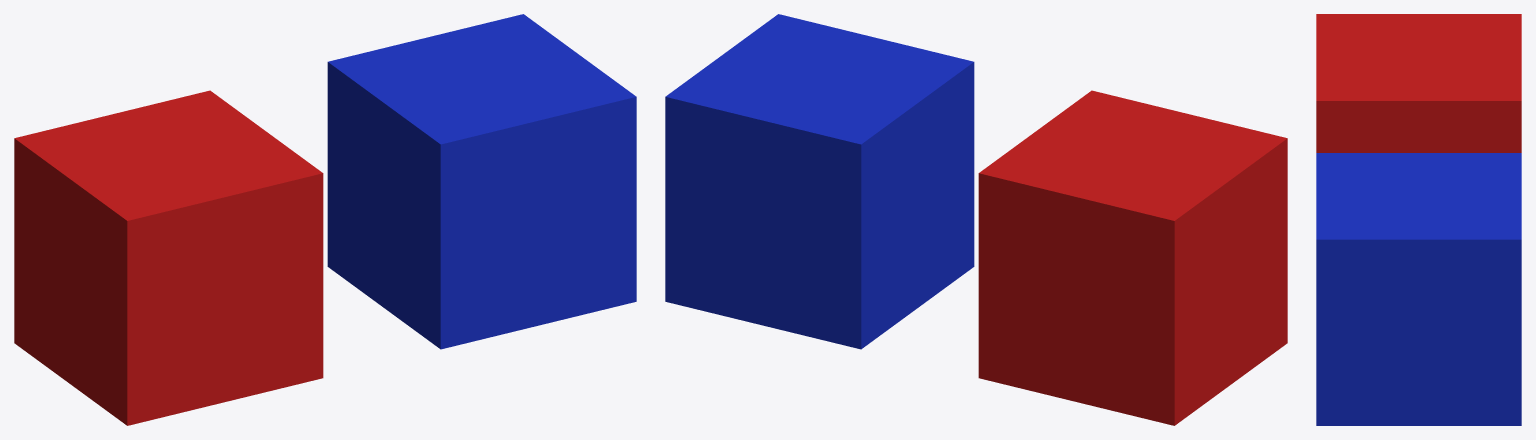
File: two-material.obj
3 views of the same model, side by side, from view 1: azimuth 30°, elevation 25°; view 2: azimuth 150°, elevation 25°; view 3: azimuth 270°, elevation 25° (orthographic). The views are drawn at different scales.
Visible parts, largest first — view 1: part_red_plastic, part_blue_plastic; view 2: part_red_plastic, part_blue_plastic; view 3: part_blue_plastic, part_red_plastic.
Boxes of the visible parts, x1,y1,x2,y2 form: part_red_plastic: (14,90,323,425); part_blue_plastic: (327,14,636,349); part_red_plastic: (978,90,1287,425); part_blue_plastic: (665,14,974,349); part_blue_plastic: (1316,153,1521,425); part_red_plastic: (1316,14,1521,152).
Size of the model in its own units: 2.6 by 1 by 1.
